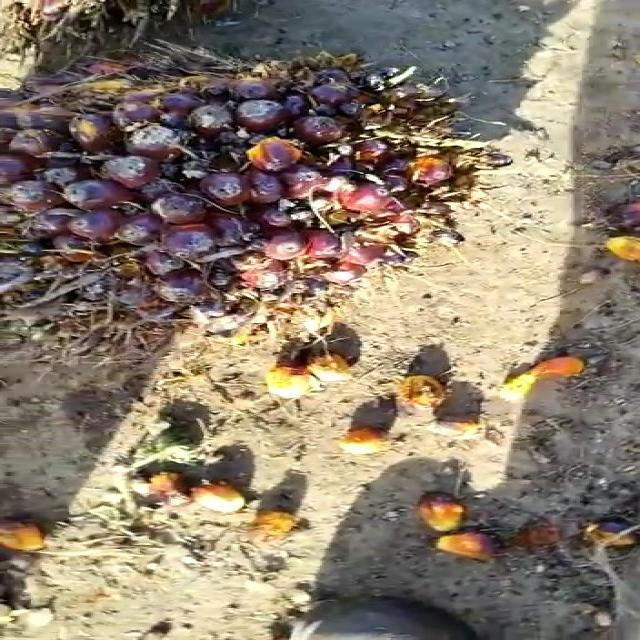palm oil: (0, 54, 511, 355)
